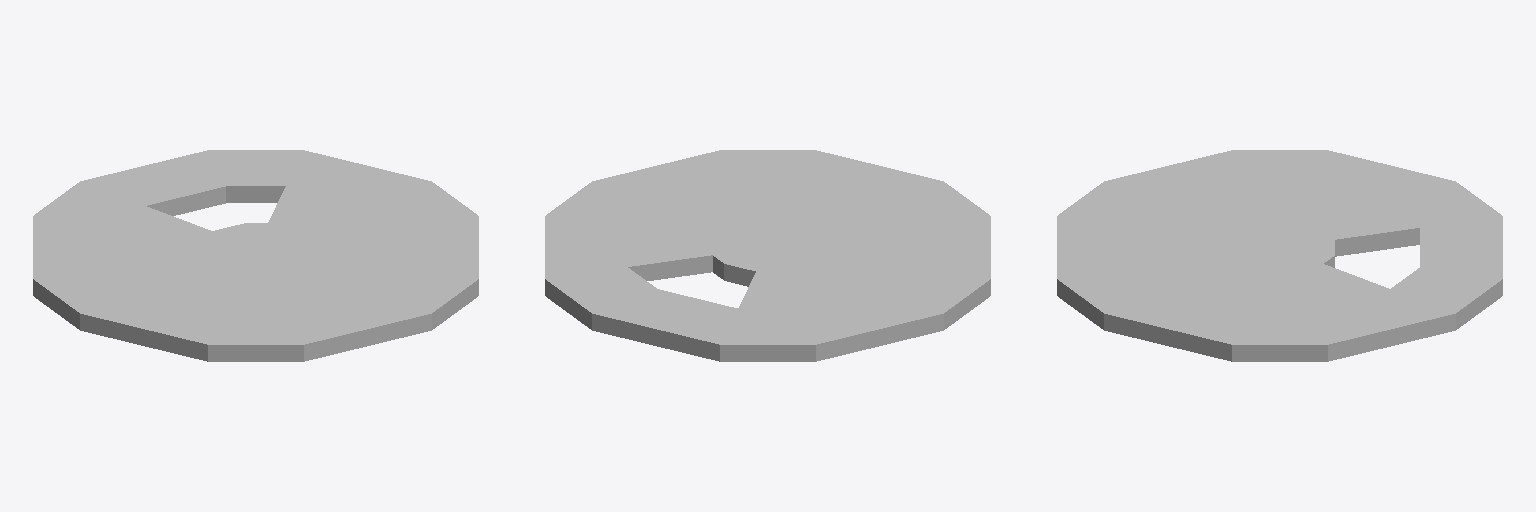
File: chip_2.obj
The picture shows the model from 3 angles: view 1: azimuth 30°, elevation 25°; view 2: azimuth 150°, elevation 25°; view 3: azimuth 270°, elevation 25°; orthographic projection.
Parts seen in each view (by area): view 1: chip.002; view 2: chip.002; view 3: chip.002.
Boxes of the visible parts, box(x1,y1,x2,y2) form: chip.002: box(33, 150, 478, 361); chip.002: box(545, 150, 990, 361); chip.002: box(1057, 150, 1502, 361).
Bounding box in the file's own units: 8.66 × 0.3528 × 8.39.